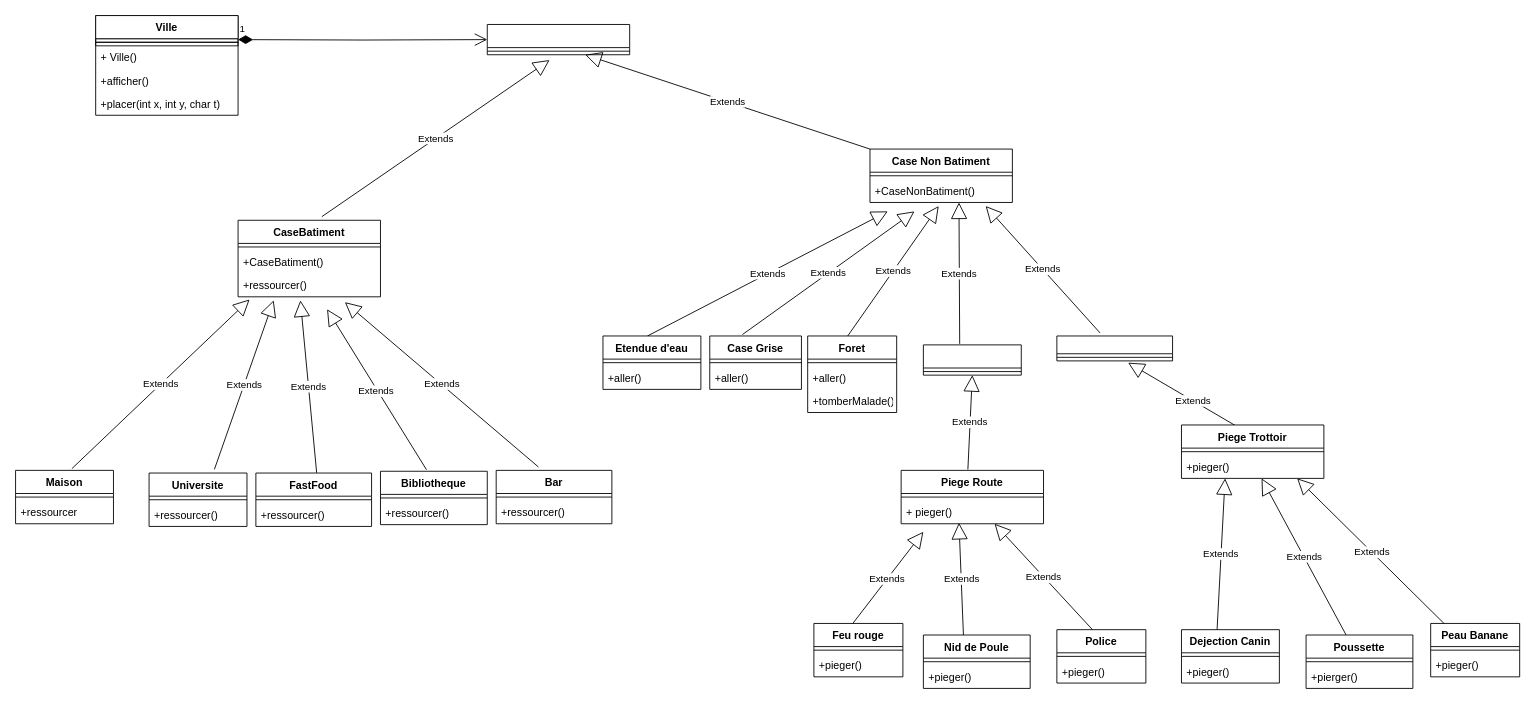
Image size: 1535x707. Some labels were removed from this diagram. Here are the shapes that lost their labels. From the top down, the centre of each, then its label:
the point at 558,39: Case
the point at 971,359: Route
the point at 1114,348: Trottoir
